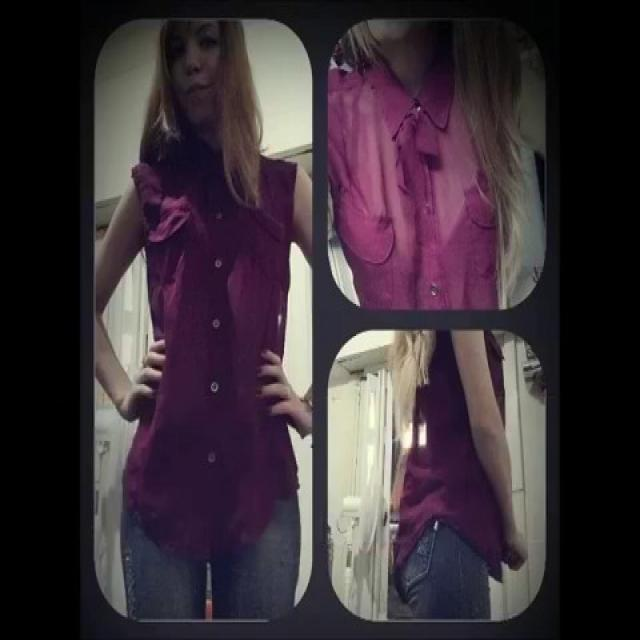Shirt: (120, 118, 301, 559), (328, 48, 503, 310), (390, 329, 506, 586)
